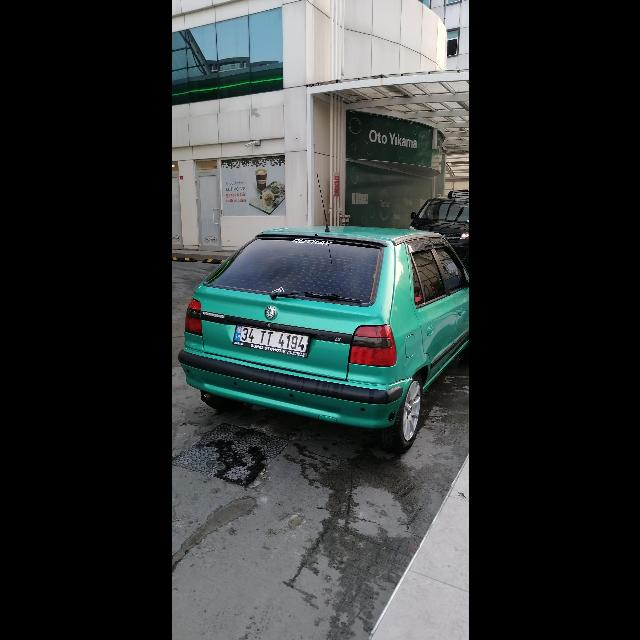Plaka: (234, 326, 306, 354)
